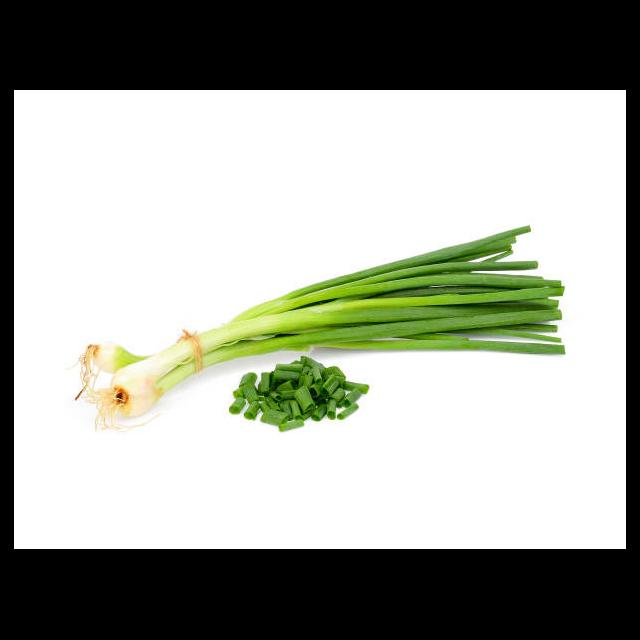green_onion: (76, 238, 560, 387), (226, 354, 368, 430)
